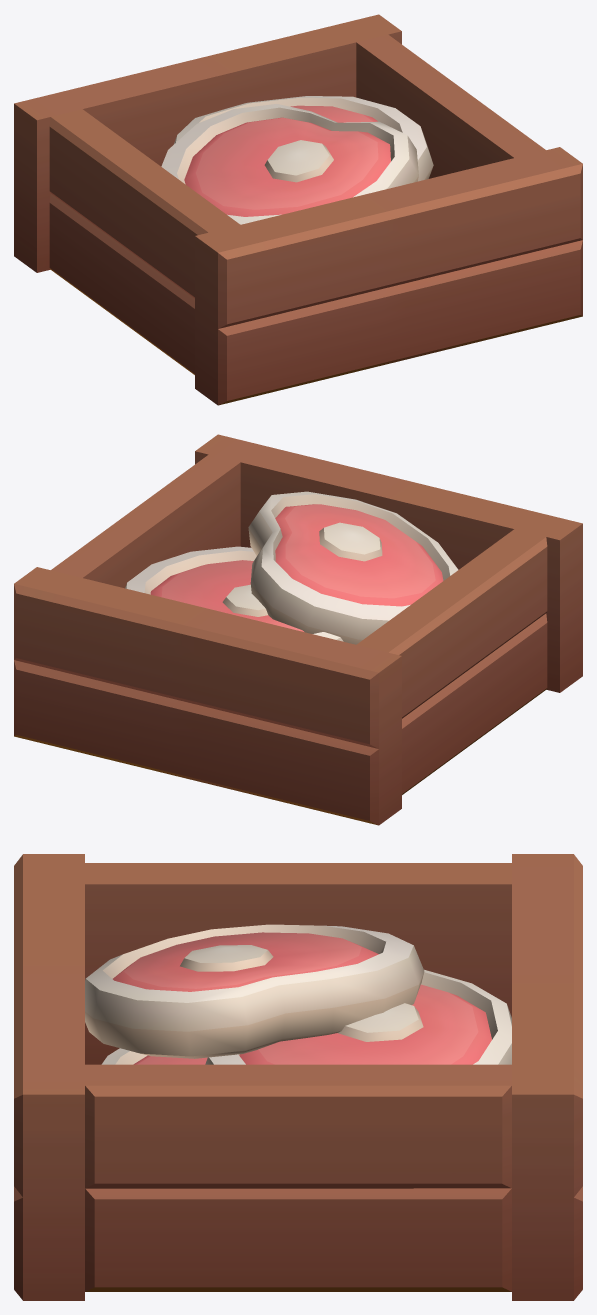
File: kay-caixa-carnes.gltf
The picture shows the model from 3 angles, top to bottom: view 1: azimuth 30°, elevation 25°; view 2: azimuth 150°, elevation 25°; view 3: azimuth 270°, elevation 25°; orthographic projection. The views are drawn at different scales.
Parts seen in each view (by area): view 1: crate_steak; view 2: crate_steak; view 3: crate_steak.
Boxes of the visible parts, <box> form: crate_steak: <box>14,14,582,405</box>; crate_steak: <box>14,434,582,825</box>; crate_steak: <box>14,854,582,1300</box>.
Bounding box in the file's own units: 1.3 × 0.5699 × 1.3.
Materials: 1 (1 with a texture image).
